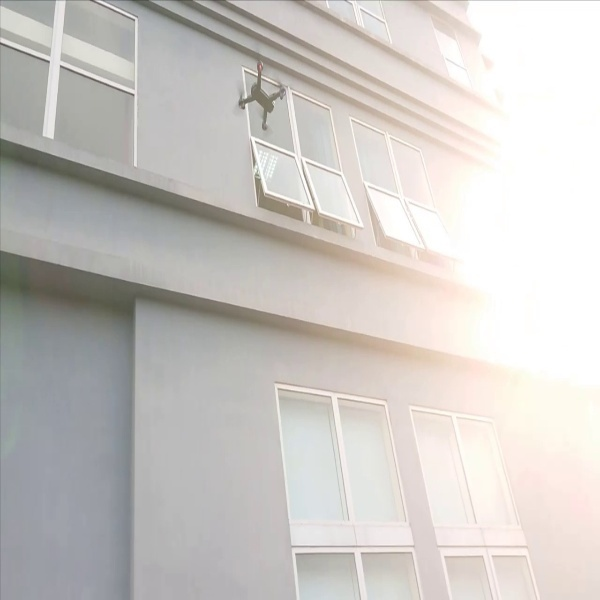drone: (227, 48, 301, 133)
